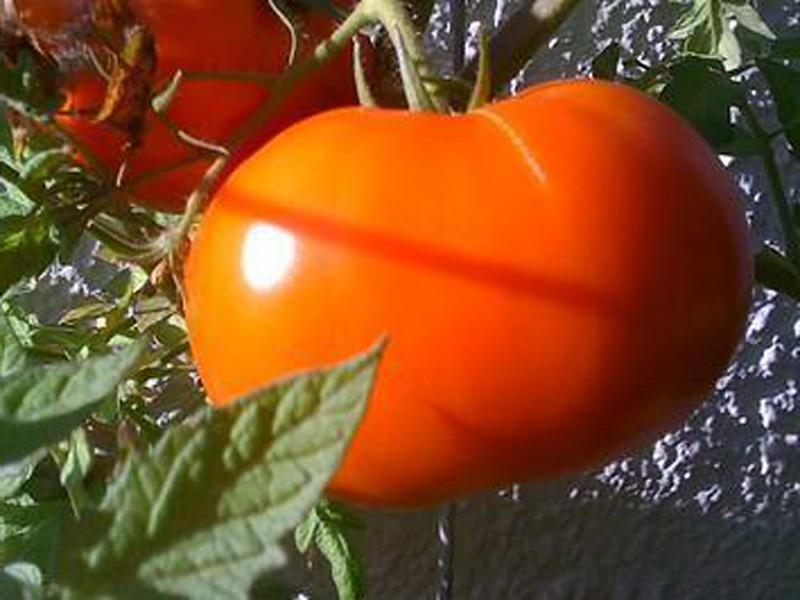Tomato: (182, 77, 752, 505)
